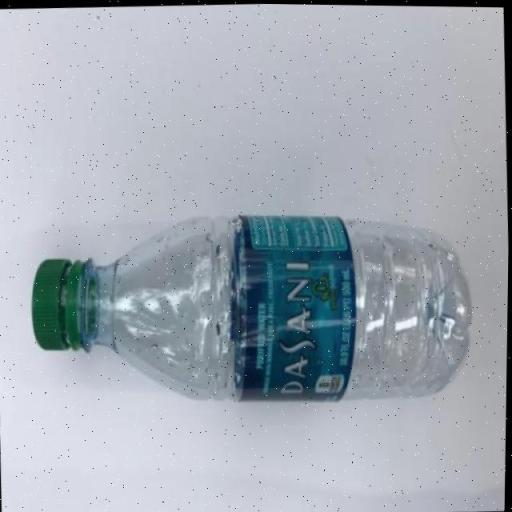plastic: (28, 196, 477, 415)
